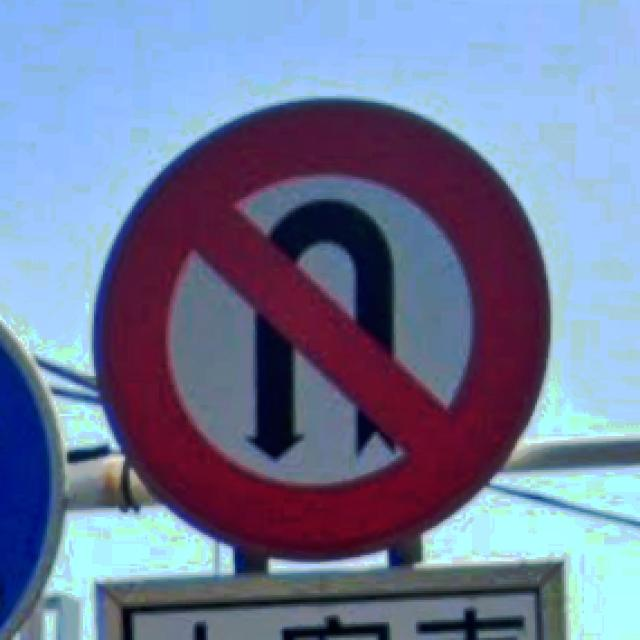nouturn: (105, 114, 546, 550)
